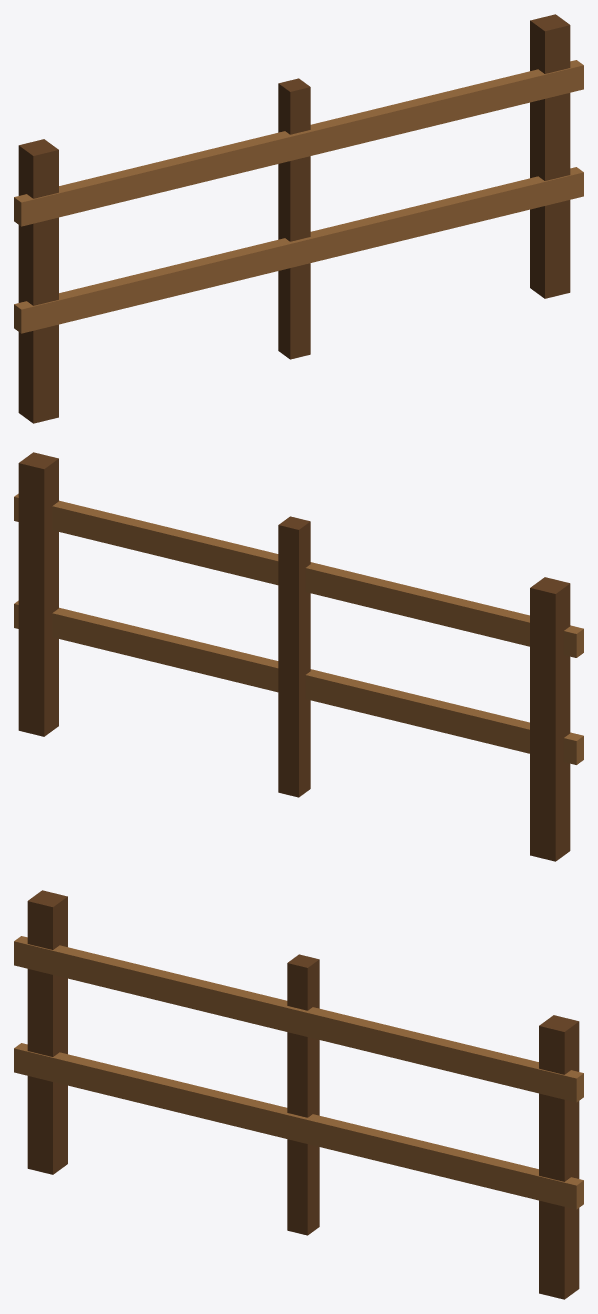
Rendered from fence_wood.glb.
The picture shows the model from 3 angles, top to bottom: view 1: azimuth 30°, elevation 25°; view 2: azimuth 150°, elevation 25°; view 3: azimuth 330°, elevation 25°; orthographic projection.
Visible parts, largest first — view 1: fence_wood; view 2: fence_wood; view 3: fence_wood.
Boxes of the visible parts, x1,y1,x2,y2 form: fence_wood: [14, 14, 583, 423]; fence_wood: [14, 452, 583, 861]; fence_wood: [14, 890, 583, 1299].
Bounding box in the file's own units: 2.2 × 1 × 0.105.
